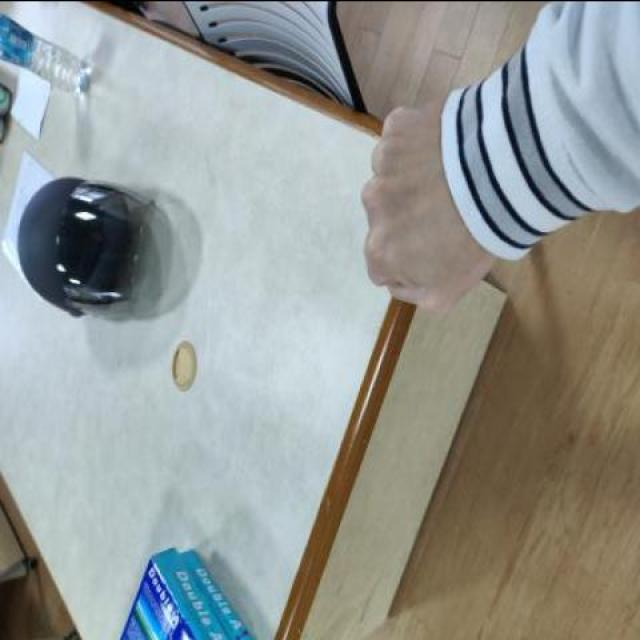Closed Hand: (357, 89, 507, 307)
